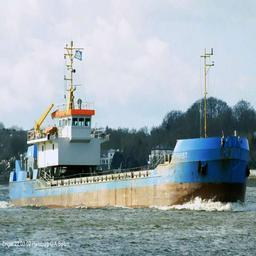Ship: (8, 83, 254, 211)
